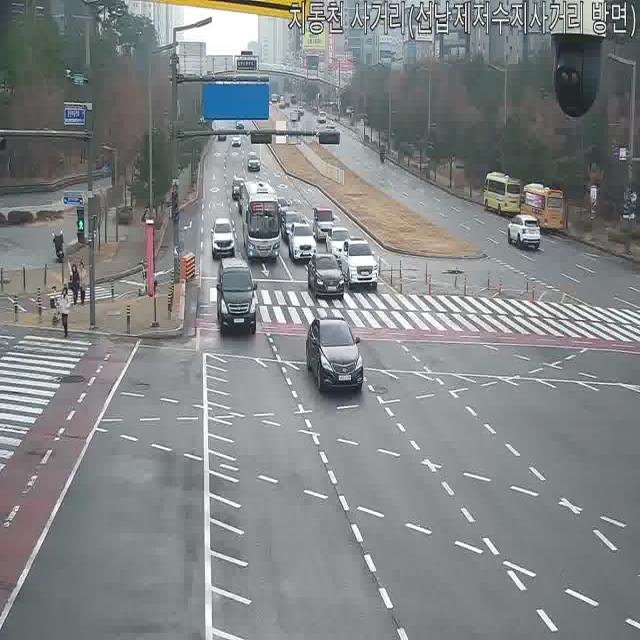Bus: (240, 179, 283, 264), (518, 182, 566, 234), (482, 171, 524, 217)
Car: (303, 313, 367, 398), (215, 258, 259, 337), (338, 238, 379, 289), (307, 253, 345, 300), (506, 212, 543, 257), (288, 222, 317, 264), (210, 216, 236, 260), (325, 225, 353, 261), (312, 205, 338, 243), (281, 210, 306, 244), (236, 182, 259, 216), (270, 196, 292, 227), (231, 176, 247, 200), (247, 153, 261, 172), (323, 122, 336, 133), (231, 134, 241, 148), (289, 110, 299, 124), (316, 111, 326, 123), (216, 130, 226, 142), (270, 93, 278, 103)
Motorcycle: (377, 144, 385, 162)
Truck: (279, 95, 289, 108)
